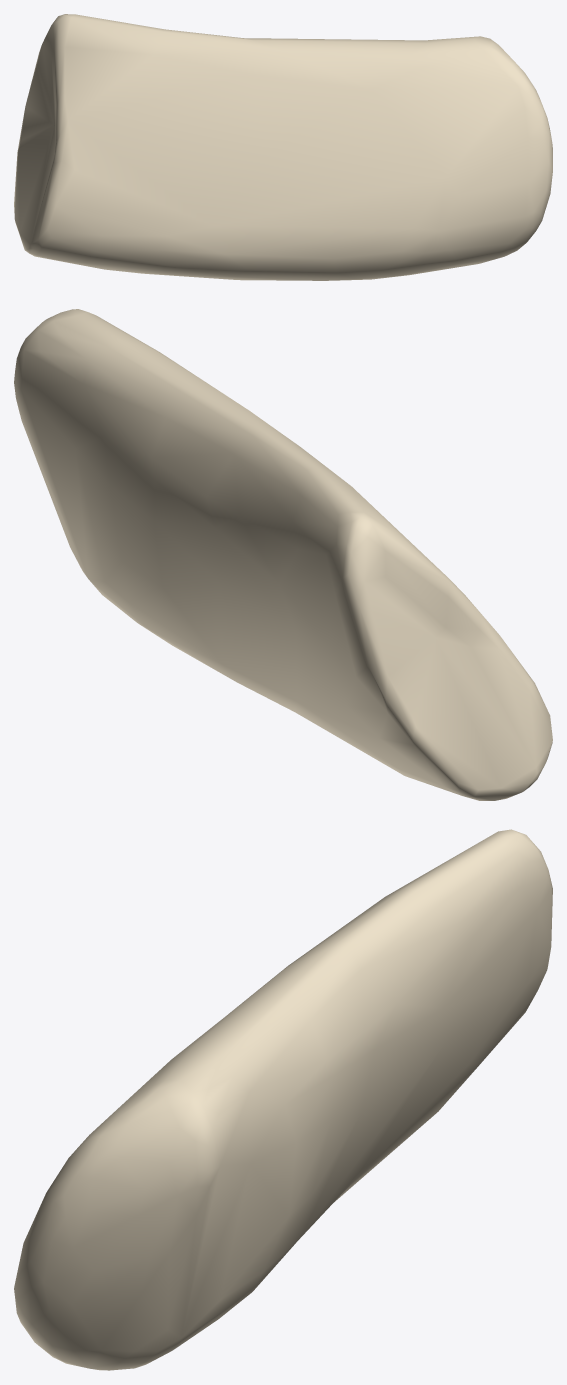
File: costal-cartilage-of-second-rib-r.glb
3 renders of one model, top to bottom at view 1: azimuth 30°, elevation 25°; view 2: azimuth 150°, elevation 25°; view 3: azimuth 270°, elevation 25°, orthographic. The views are drawn at different scales.
Parts seen in each view (by area): view 1: Costal cartilage of second rib.r; view 2: Costal cartilage of second rib.r; view 3: Costal cartilage of second rib.r.
Part boxes in pixels (x1,y1,x2,y2): Costal cartilage of second rib.r: [14, 14, 552, 280]; Costal cartilage of second rib.r: [14, 309, 552, 800]; Costal cartilage of second rib.r: [14, 829, 552, 1370].
Bounding box in the file's own units: 0.0334 × 0.0168 × 0.0245.
